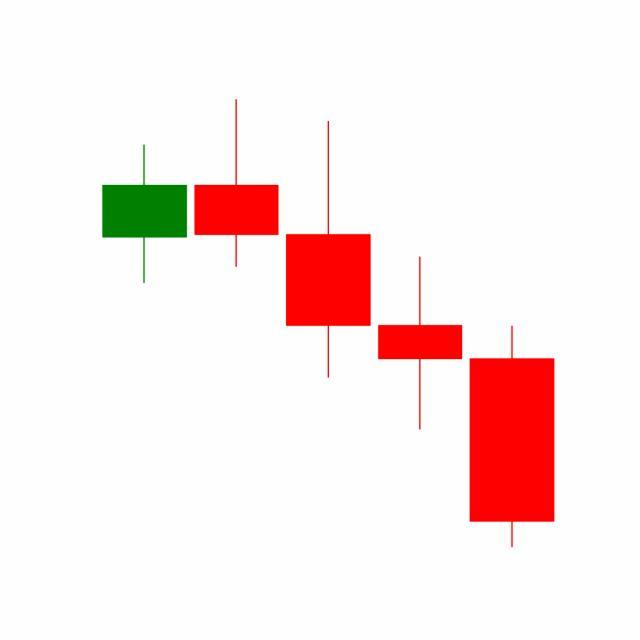Spinning Top: (374, 254, 468, 432)
